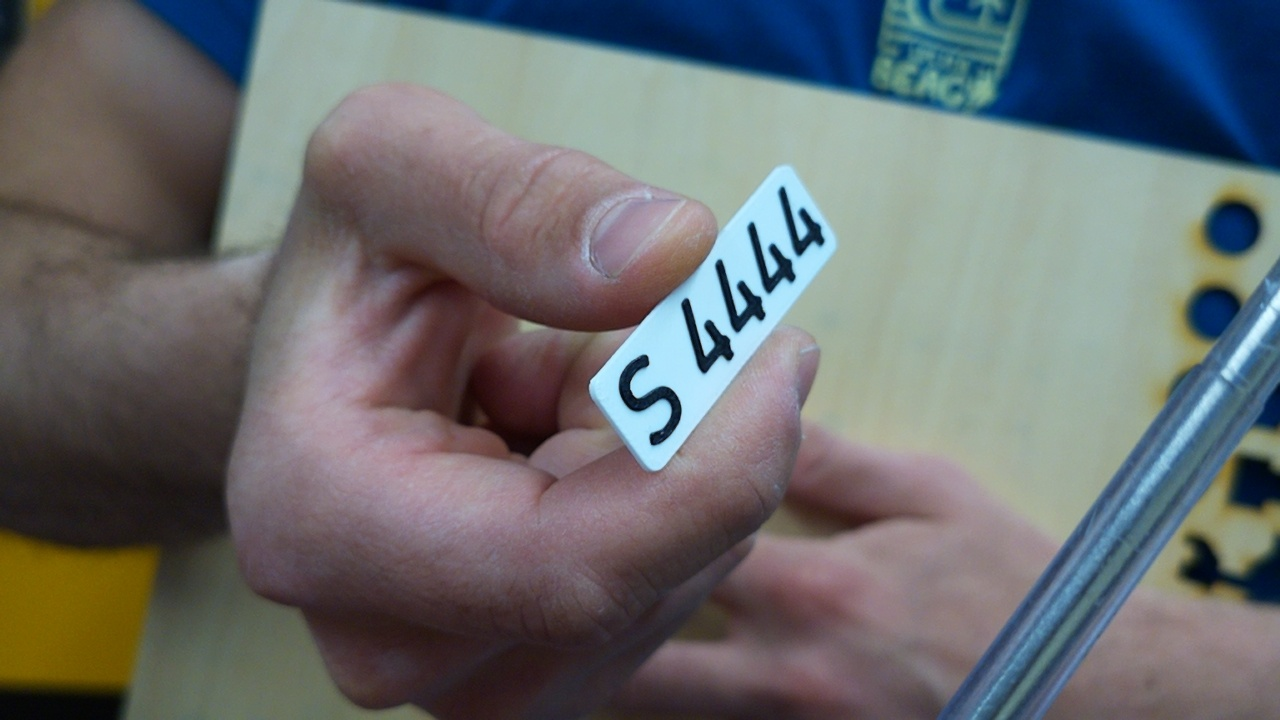license_plate: (586, 160, 844, 476)
